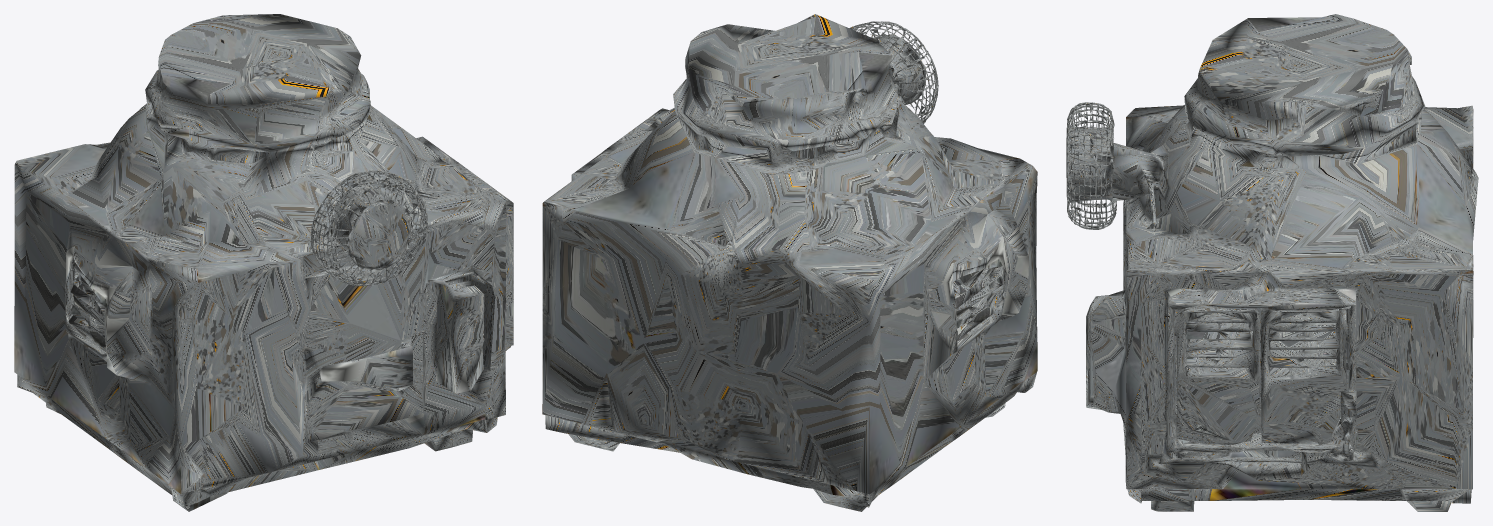
Rendered from bsVents.14ee73a1.glb.
3 views of the same model, side by side, from view 1: azimuth 30°, elevation 25°; view 2: azimuth 150°, elevation 25°; view 3: azimuth 270°, elevation 25° (orthographic). The views are drawn at different scales.
Size of the model in its own units: 1.86 by 1.61 by 1.57.
1 material, 1 textured.
